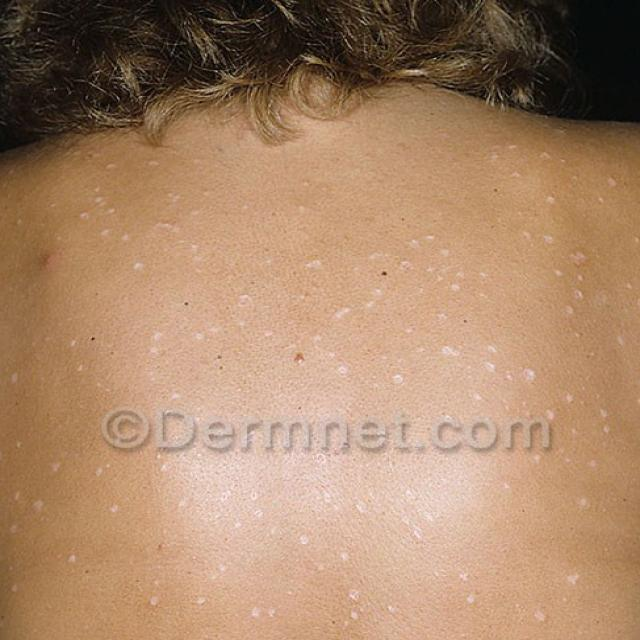Viral Infections: (0, 168, 640, 640)
